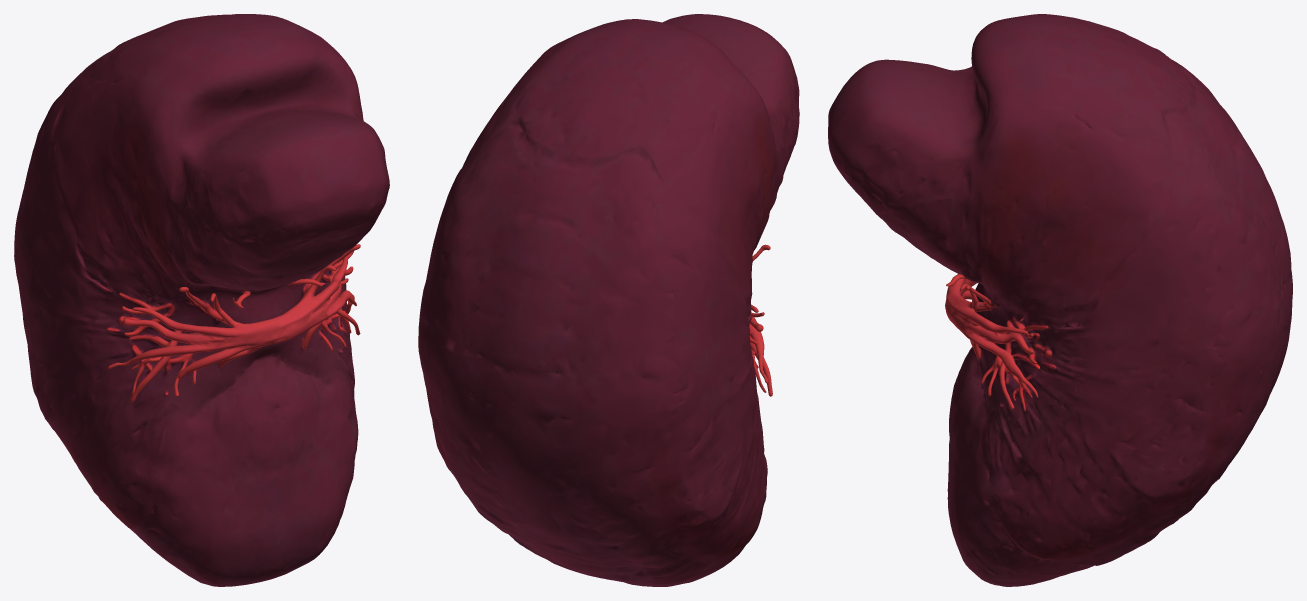
The model's file is spleen.glb.
The picture shows the model from 3 angles, left to right: view 1: azimuth 30°, elevation 25°; view 2: azimuth 150°, elevation 25°; view 3: azimuth 270°, elevation 25°; orthographic projection.
Visible parts, largest first — view 1: tripo_node_e4a09cc8-bf54-4653-b73a-7a297f087445; view 2: tripo_node_e4a09cc8-bf54-4653-b73a-7a297f087445; view 3: tripo_node_e4a09cc8-bf54-4653-b73a-7a297f087445.
Part boxes in pixels (box(x1,y1,x2,y2)): tripo_node_e4a09cc8-bf54-4653-b73a-7a297f087445: box(14, 14, 389, 586); tripo_node_e4a09cc8-bf54-4653-b73a-7a297f087445: box(418, 14, 799, 586); tripo_node_e4a09cc8-bf54-4653-b73a-7a297f087445: box(828, 14, 1292, 586).
Bounding box in the file's own units: 0.5362 × 0.9999 × 0.7781.
Materials: 1 (1 with a texture image).
